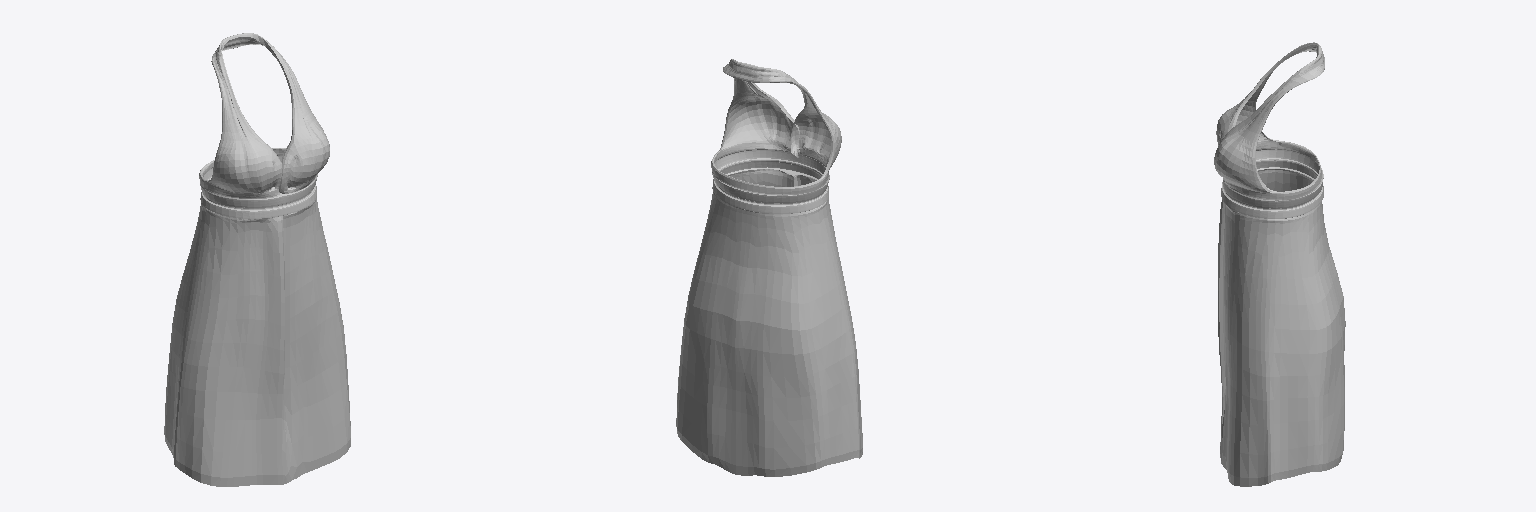
The model's file is changqun.obj.
3 renders of one model, left to right at view 1: azimuth 30°, elevation 25°; view 2: azimuth 150°, elevation 25°; view 3: azimuth 270°, elevation 25°, orthographic.
Visible parts, largest first — view 1: Object__0; view 2: Object__0; view 3: Object__0.
Part boxes in pixels (x1,y1,x2,y2): Object__0: (164,33,350,486); Object__0: (676,59,862,476); Object__0: (1214,42,1345,486).
Bounding box in the file's own units: 10.6 × 24.13 × 6.95.